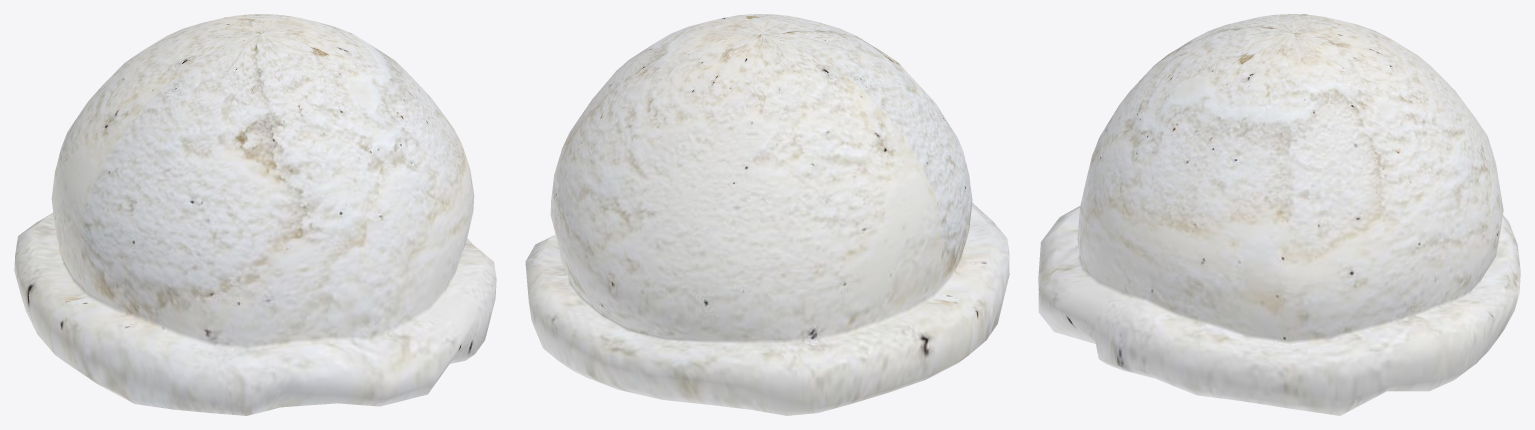
Rendered from scoop-vanilla.gltf.
The picture shows the model from 3 angles, left to right: view 1: azimuth 30°, elevation 25°; view 2: azimuth 150°, elevation 25°; view 3: azimuth 270°, elevation 25°; orthographic projection. The views are drawn at different scales.
Visible parts, largest first — view 1: Scoop; view 2: Scoop; view 3: Scoop.
Part boxes in pixels (x1,y1,x2,y2): Scoop: (14, 14, 496, 415); Scoop: (525, 14, 1009, 415); Scoop: (1038, 14, 1520, 415).
Bounding box in the file's own units: 1.33 × 0.9831 × 1.38.
1 material, 1 textured.
